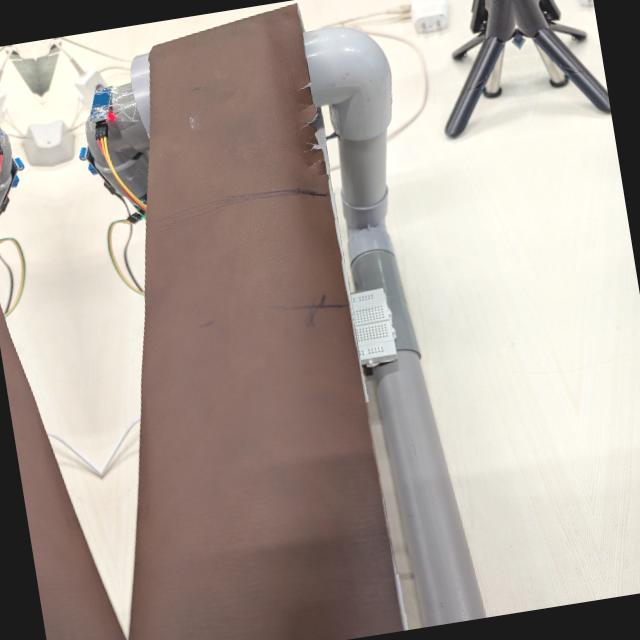edge_damage: (280, 61, 343, 198)
